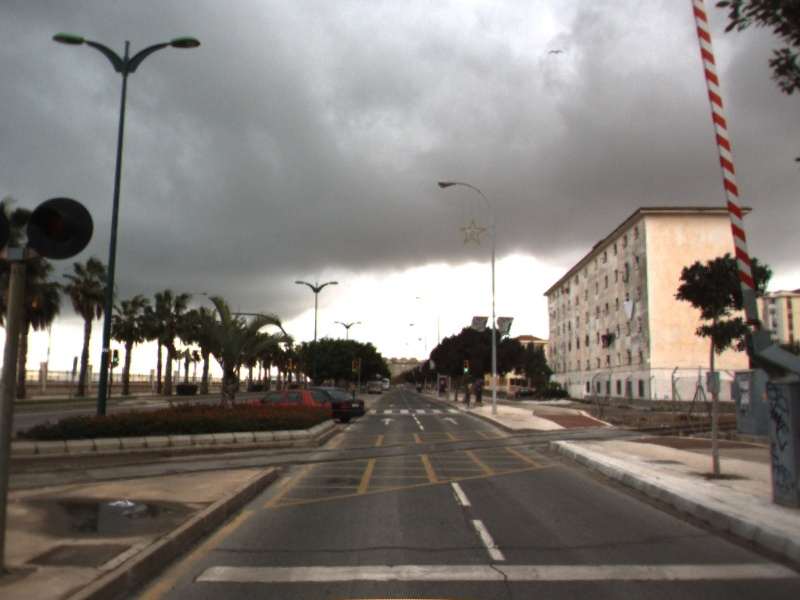STRAIGHT: (440, 415, 461, 426), (379, 416, 397, 427)
